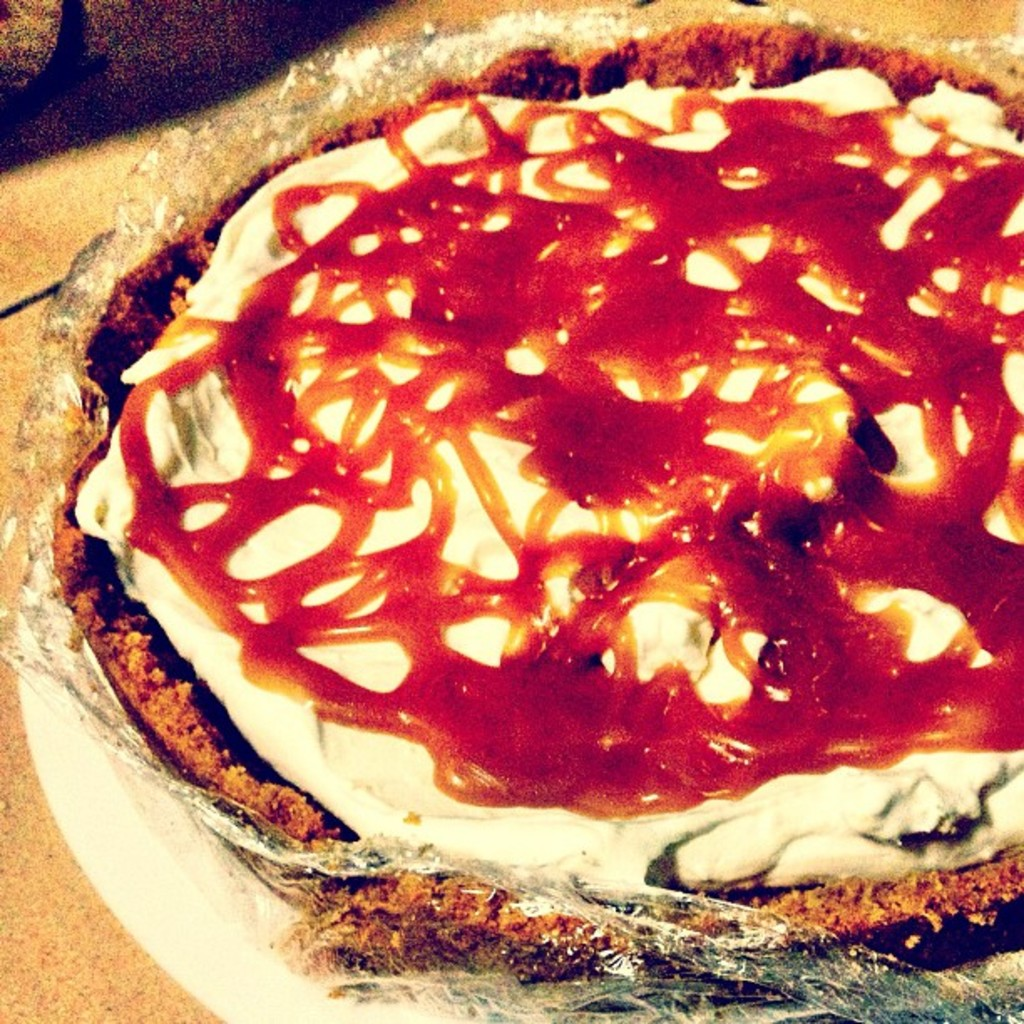Pizza: (70, 70, 1022, 886)
